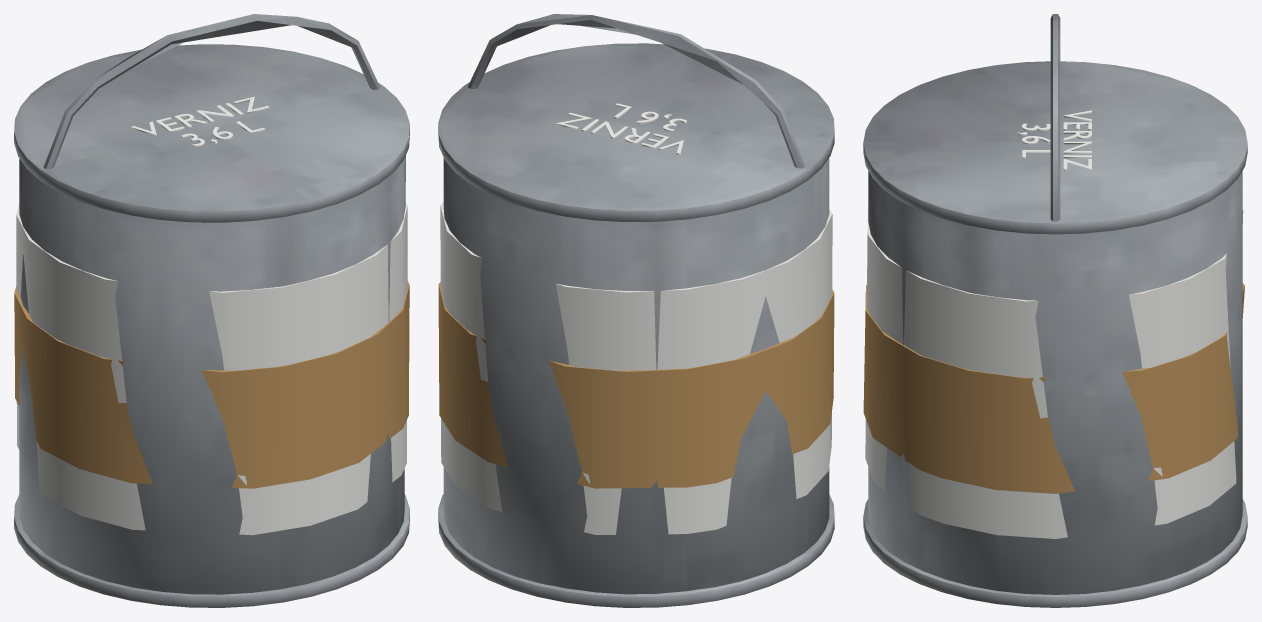
The model's file is PIN-TIN-005_lod1.glb.
3 views of the same model, side by side, from view 1: azimuth 30°, elevation 25°; view 2: azimuth 150°, elevation 25°; view 3: azimuth 270°, elevation 25° (orthographic). The views are drawn at different scales.
Parts seen in each view (by area): view 1: PIN-TIN-005_lata, PIN-TIN-005_aro, PIN-TIN-005_rotulo, PIN-TIN-005_amostra, PIN-TIN-005_aro2, PIN-TIN-005_alca, PIN-TIN-005_texto; view 2: PIN-TIN-005_lata, PIN-TIN-005_aro, PIN-TIN-005_amostra, PIN-TIN-005_rotulo, PIN-TIN-005_aro2, PIN-TIN-005_alca, PIN-TIN-005_texto; view 3: PIN-TIN-005_lata, PIN-TIN-005_aro, PIN-TIN-005_rotulo, PIN-TIN-005_amostra, PIN-TIN-005_aro2, PIN-TIN-005_alca, PIN-TIN-005_texto.
Boxes of the visible parts, bbox=[...] form: PIN-TIN-005_lata: bbox=[19, 155, 405, 594]; PIN-TIN-005_aro: bbox=[14, 44, 409, 222]; PIN-TIN-005_rotulo: bbox=[16, 202, 407, 535]; PIN-TIN-005_amostra: bbox=[14, 281, 409, 488]; PIN-TIN-005_aro2: bbox=[14, 494, 409, 607]; PIN-TIN-005_alca: bbox=[43, 14, 380, 169]; PIN-TIN-005_texto: bbox=[130, 96, 269, 146]; PIN-TIN-005_lata: bbox=[443, 158, 829, 594]; PIN-TIN-005_aro: bbox=[438, 43, 834, 221]; PIN-TIN-005_amostra: bbox=[438, 282, 834, 488]; PIN-TIN-005_rotulo: bbox=[440, 202, 832, 534]; PIN-TIN-005_aro2: bbox=[438, 494, 834, 607]; PIN-TIN-005_alca: bbox=[468, 14, 805, 168]; PIN-TIN-005_texto: bbox=[555, 103, 687, 154]; PIN-TIN-005_lata: bbox=[868, 171, 1242, 594]; PIN-TIN-005_aro: bbox=[863, 61, 1247, 234]; PIN-TIN-005_rotulo: bbox=[865, 209, 1243, 538]; PIN-TIN-005_amostra: bbox=[863, 283, 1244, 493]; PIN-TIN-005_aro2: bbox=[863, 499, 1247, 607]; PIN-TIN-005_alca: bbox=[1050, 14, 1060, 221]; PIN-TIN-005_texto: bbox=[1017, 110, 1091, 170].
Bounding box in the file's own units: 0.1734 × 0.2411 × 0.1734.
4 materials, 1 textured.
